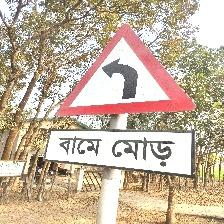Left-Turn: (50, 3, 196, 203)
